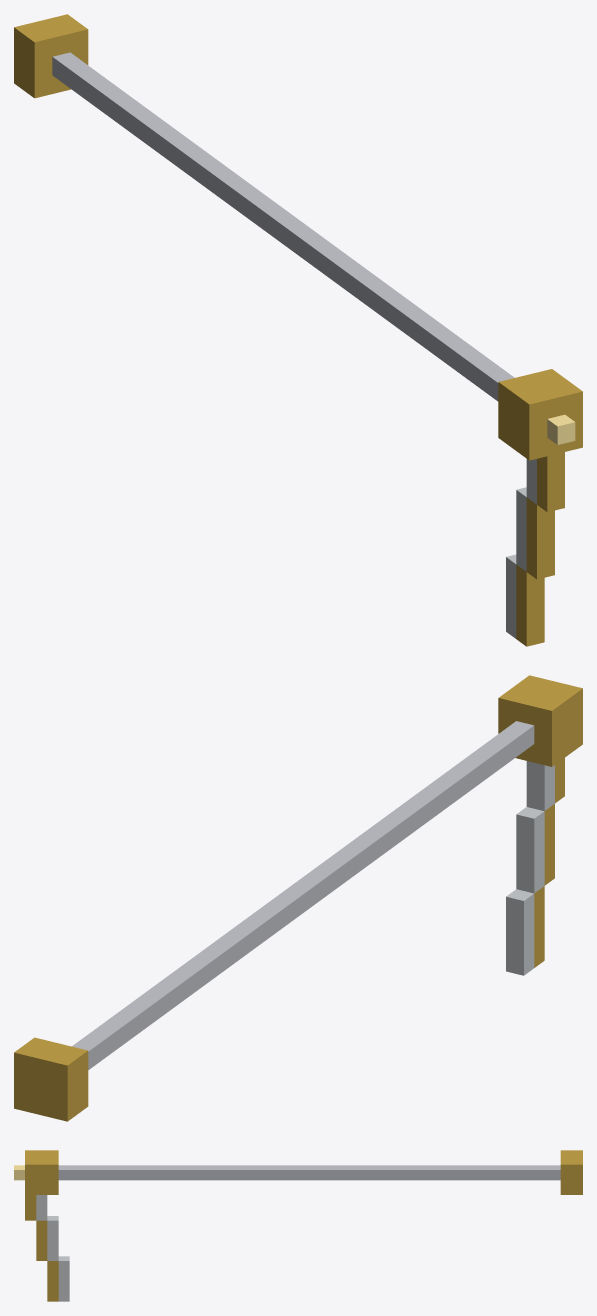
File: vox_scythe_star.glb
The picture shows the model from 3 angles, top to bottom: view 1: azimuth 30°, elevation 25°; view 2: azimuth 150°, elevation 25°; view 3: azimuth 270°, elevation 25°; orthographic projection. The views are drawn at different scales.
Parts seen in each view (by area): view 1: vox_scythe_star; view 2: vox_scythe_star; view 3: vox_scythe_star.
Part boxes in pixels (bbox=[...]): vox_scythe_star: bbox=[14, 14, 582, 646]; vox_scythe_star: bbox=[14, 675, 582, 1121]; vox_scythe_star: bbox=[14, 1150, 582, 1301].
Size of the model in its own units: 0.06 by 0.2801 by 1.02.
